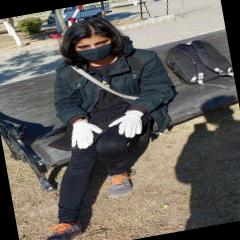gloved: (107, 109, 147, 142), (68, 117, 104, 150)
